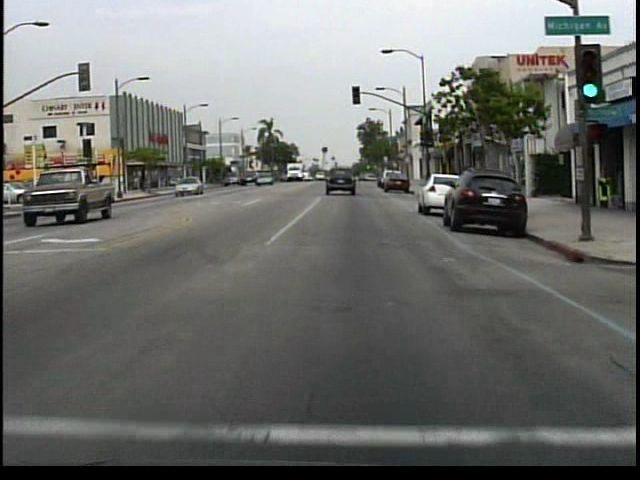person: (85, 180, 104, 207)
